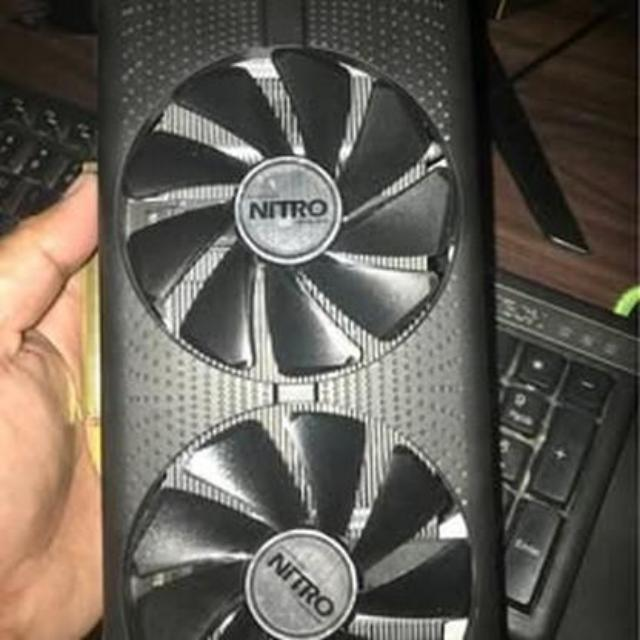GPU: (74, 0, 511, 640)
